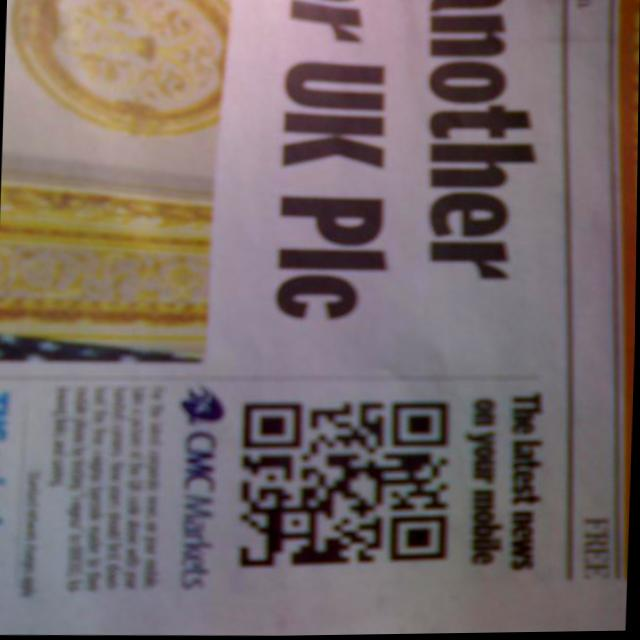qrcode: (240, 401, 453, 573)
